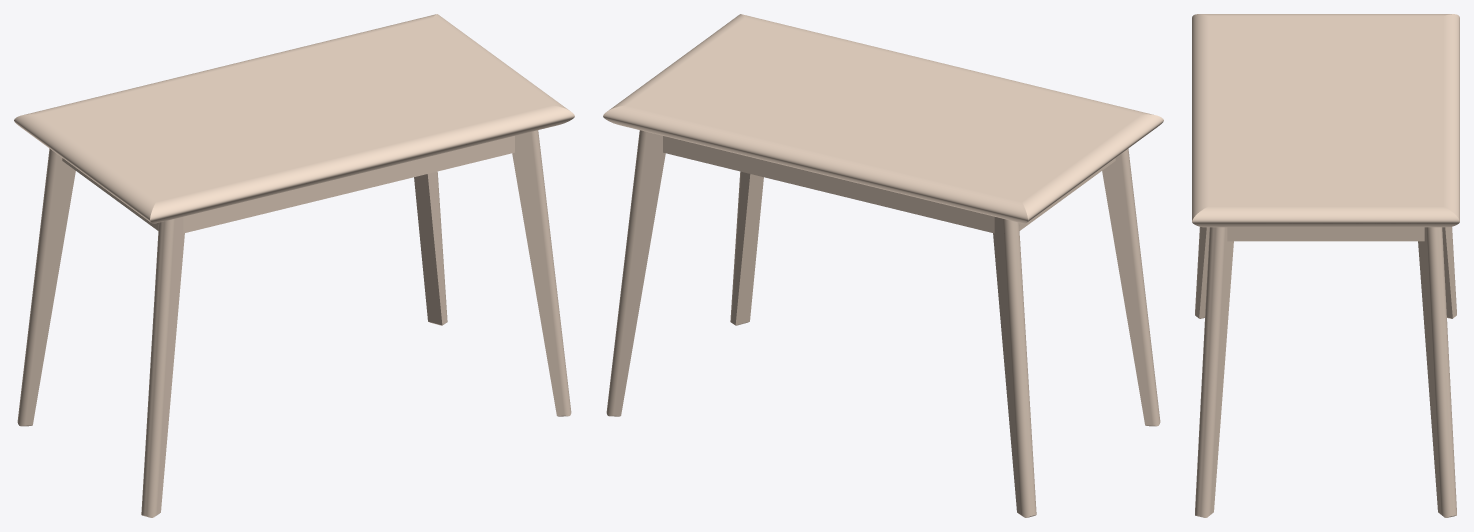
The model's file is 501_デスク.glb.
3 renders of one model, left to right at view 1: azimuth 30°, elevation 25°; view 2: azimuth 150°, elevation 25°; view 3: azimuth 270°, elevation 25°, orthographic.
Visible parts, largest first — view 1: Body; view 2: Body; view 3: Body.
Boxes of the visible parts, bbox=[...] form: Body: bbox=[14, 14, 574, 517]; Body: bbox=[603, 14, 1163, 517]; Body: bbox=[1192, 14, 1459, 517].
Size of the model in its own units: 1.02 by 0.7 by 0.5593.
